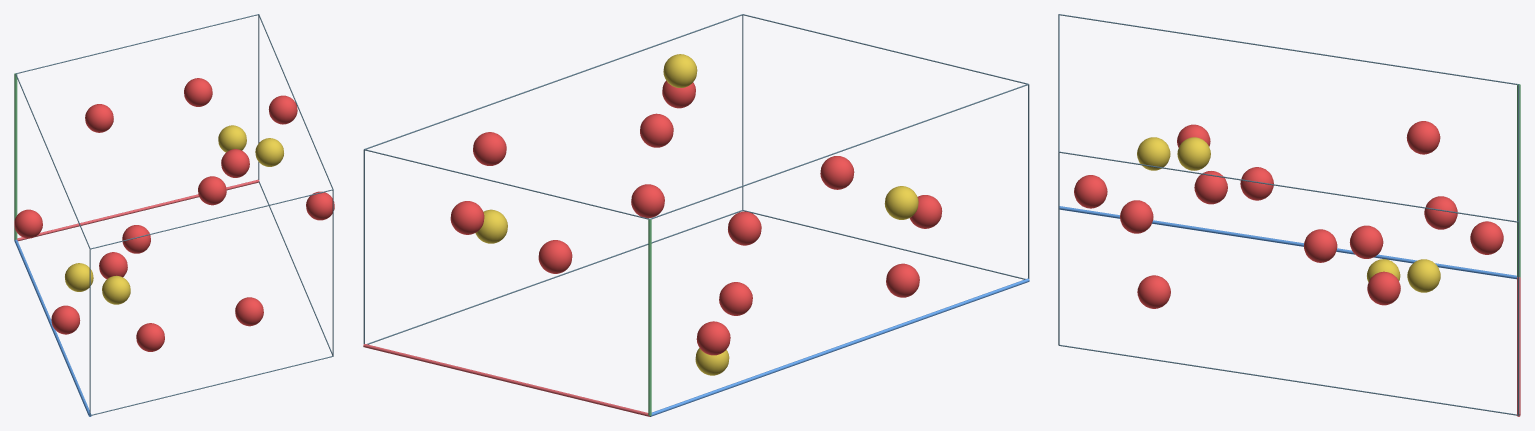
Rendered from chat-polymeric-sulfur-trioxide.glb.
The picture shows the model from 3 angles, left to right: view 1: azimuth 30°, elevation 25°; view 2: azimuth 150°, elevation 25°; view 3: azimuth 270°, elevation 25°; orthographic projection. The views are drawn at different scales.
Visible parts, largest first — view 1: Ô mạng và các trục a, b, c, O1 · O · 1 (×4), O3 · O · 1 (×4), S · S · 1 (×4), O2 · O · 1 (×4); view 2: Ô mạng và các trục a, b, c, O3 · O · 1 (×4), O2 · O · 1 (×4), O1 · O · 1 (×4), S · S · 1 (×4); view 3: Ô mạng và các trục a, b, c, O2 · O · 1 (×4), O1 · O · 1 (×4), O3 · O · 1 (×4), S · S · 1 (×4).
Boxes of the visible parts, left/top/right/bottom form: Ô mạng và các trục a, b, c: left=14, top=14, right=333, bottom=416; O1 · O · 1 (×4): left=14, top=95, right=334, bottom=334; O3 · O · 1 (×4): left=85, top=104, right=263, bottom=326; S · S · 1 (×4): left=65, top=125, right=283, bottom=304; O2 · O · 1 (×4): left=99, top=78, right=249, bottom=351; Ô mạng và các trục a, b, c: left=363, top=14, right=1029, bottom=416; O3 · O · 1 (×4): left=538, top=156, right=854, bottom=273; O2 · O · 1 (×4): left=450, top=113, right=942, bottom=315; O1 · O · 1 (×4): left=473, top=80, right=919, bottom=355; S · S · 1 (×4): left=475, top=54, right=918, bottom=375; Ô mạng và các trục a, b, c: left=1058, top=14, right=1520, bottom=416; O2 · O · 1 (×4): left=1074, top=167, right=1503, bottom=262; O1 · O · 1 (×4): left=1120, top=171, right=1457, bottom=258; O3 · O · 1 (×4): left=1137, top=121, right=1440, bottom=308; S · S · 1 (×4): left=1137, top=137, right=1440, bottom=292.
Size of the model in its own units: 9.4 by 4.5 by 8.8.
